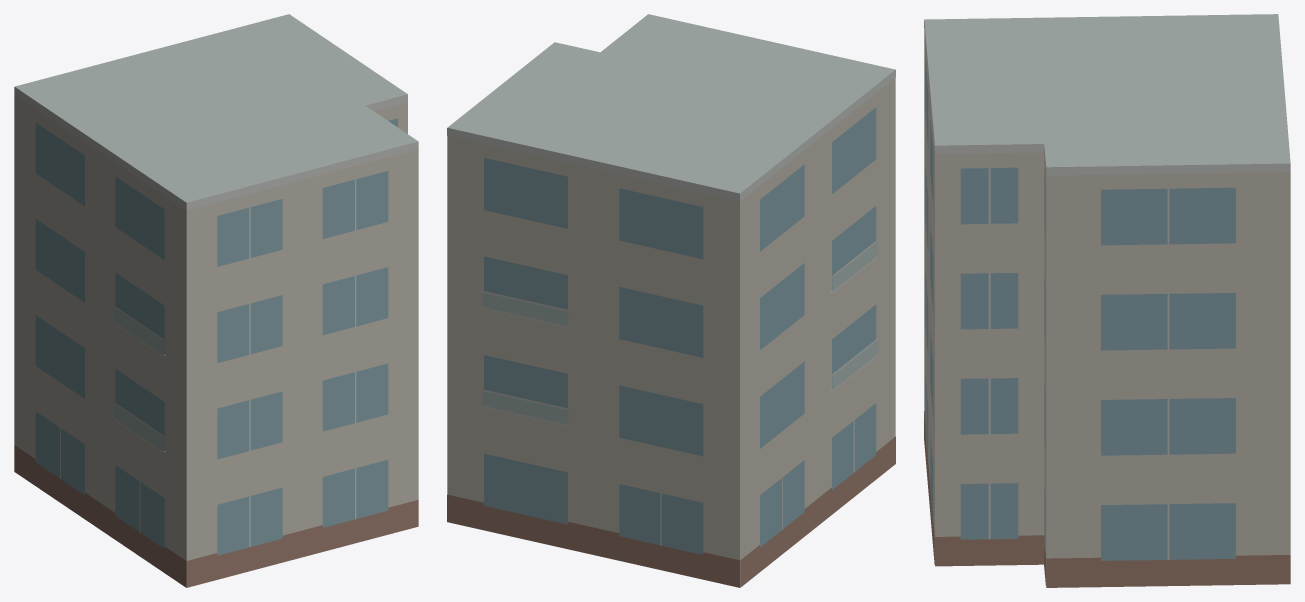
File: residential-5b10314b-a9c6-4146-8989-f08a1e5e365f.glb
3 views of the same model, side by side, from view 1: azimuth 30°, elevation 25°; view 2: azimuth 150°, elevation 25°; view 3: azimuth 270°, elevation 25° (orthographic). The views are drawn at different scales.
Parts seen in each view (by area): view 1: residential-5b10314b-a9c6-4146-8989-f08a1e5e365f.tmp; view 2: residential-5b10314b-a9c6-4146-8989-f08a1e5e365f.tmp; view 3: residential-5b10314b-a9c6-4146-8989-f08a1e5e365f.tmp.
Boxes of the visible parts, <box> form: residential-5b10314b-a9c6-4146-8989-f08a1e5e365f.tmp: <box>14,14,418,587</box>; residential-5b10314b-a9c6-4146-8989-f08a1e5e365f.tmp: <box>447,14,895,587</box>; residential-5b10314b-a9c6-4146-8989-f08a1e5e365f.tmp: <box>924,14,1290,587</box>.
Size of the model in its own units: 9.54 by 12.2 by 9.64.
